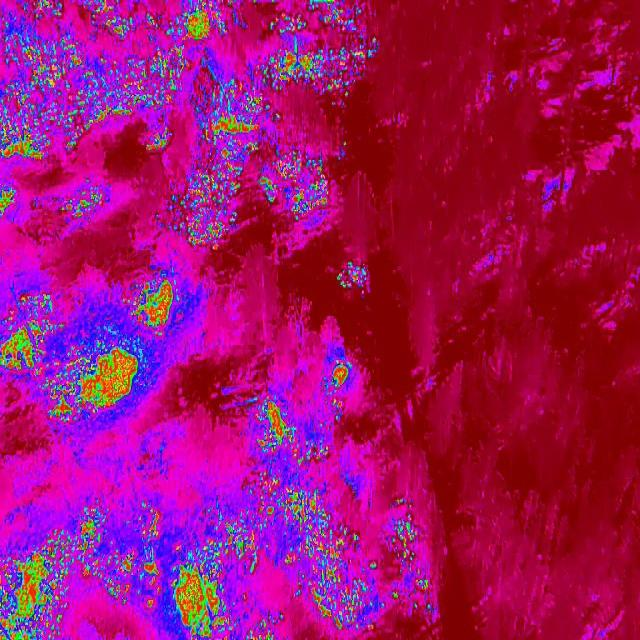fire: (0, 0, 376, 105), (0, 260, 203, 421), (179, 105, 329, 247), (73, 497, 257, 595), (253, 396, 359, 556), (0, 496, 75, 640), (292, 556, 388, 640), (386, 498, 439, 620), (140, 596, 285, 640), (0, 106, 86, 163), (57, 175, 114, 227), (316, 350, 358, 400), (334, 251, 376, 298), (86, 104, 132, 128), (0, 183, 18, 227)
